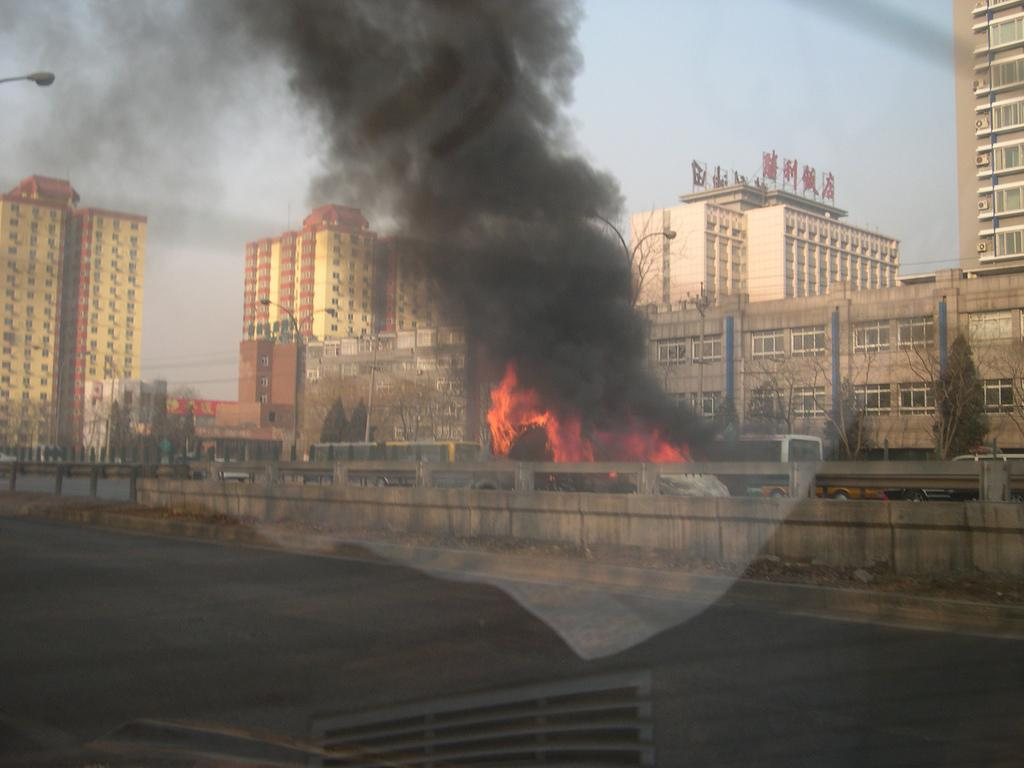fire: (494, 396, 542, 424)
smoke: (430, 188, 614, 360), (336, 26, 516, 160)
